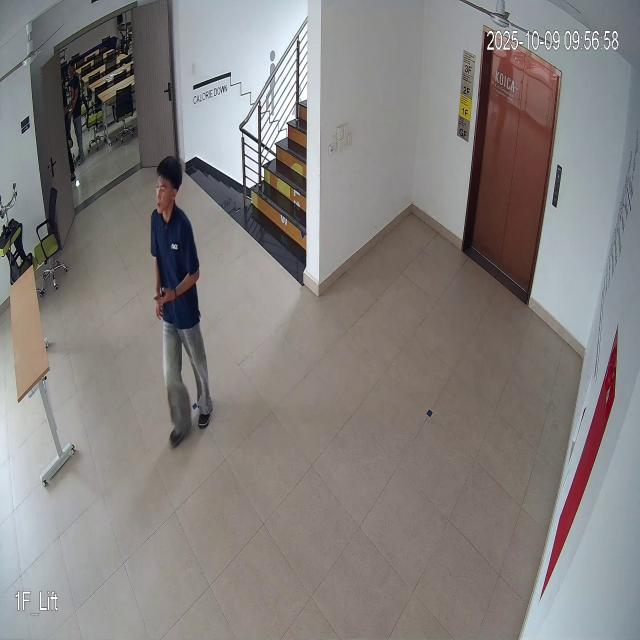face: (146, 149, 192, 227)
